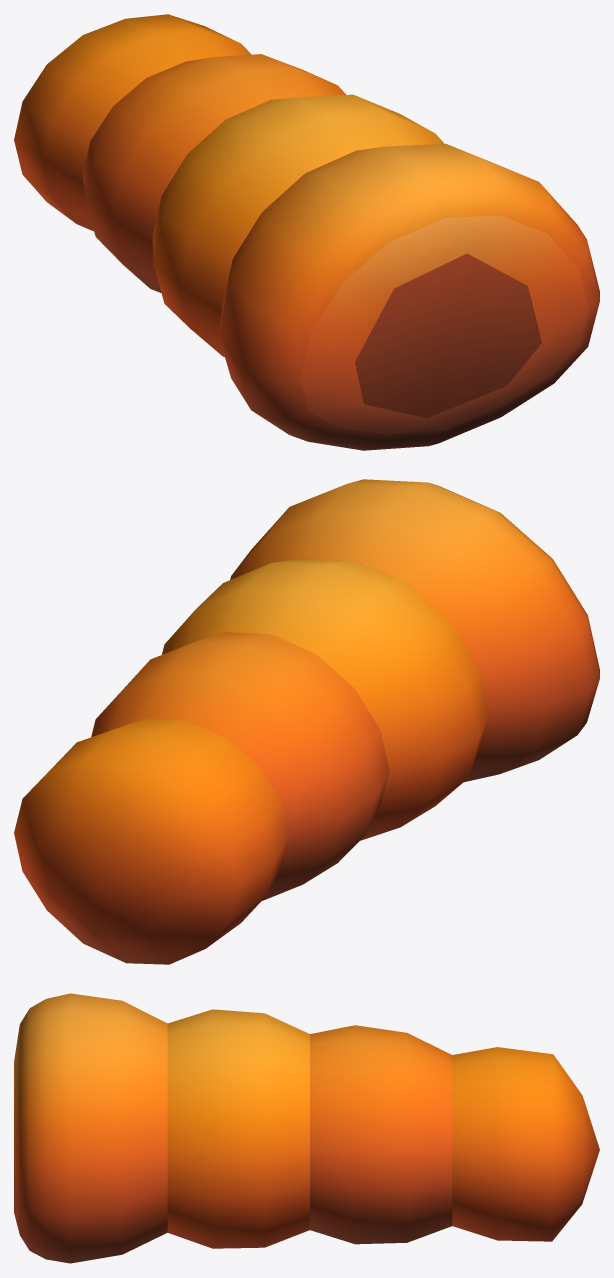
File: pie_001.fbx
3 views of the same model, one above another, from view 1: azimuth 30°, elevation 25°; view 2: azimuth 150°, elevation 25°; view 3: azimuth 270°, elevation 25° (orthographic). The views are drawn at different scales.
Visible parts, largest first — view 1: pie_001; view 2: pie_001; view 3: pie_001.
Boxes of the visible parts, x1,y1,x2,y2 form: pie_001: (14,14,599,450); pie_001: (14,479,599,964); pie_001: (14,993,599,1263).
Size of the model in its own units: 6.87 by 11.8 by 5.17.
